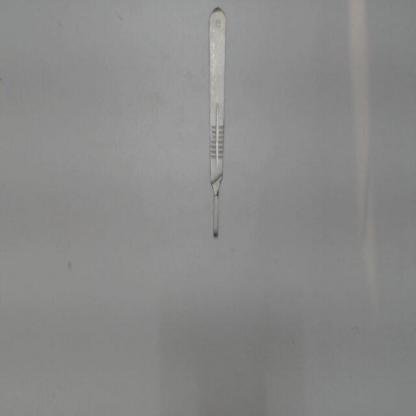No.4 BP Handle: (202, 1, 231, 250)
